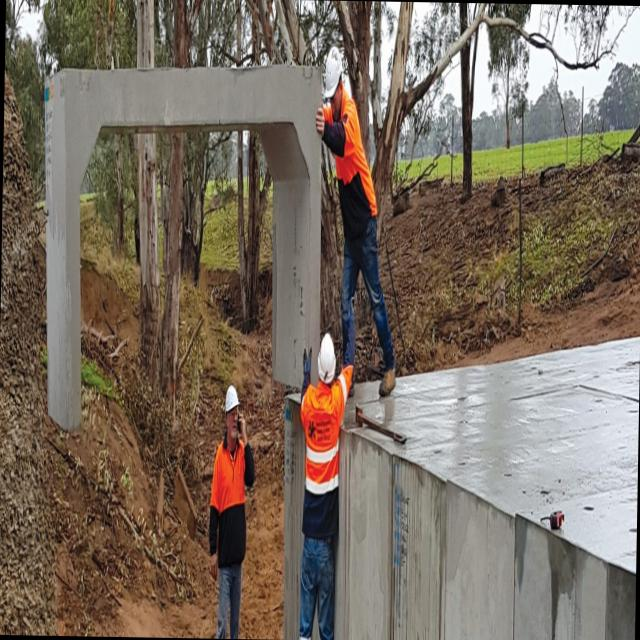cement: (45, 65, 321, 428), (335, 338, 640, 640)
red-sand: (380, 156, 640, 375), (42, 387, 217, 638), (239, 446, 283, 639)
